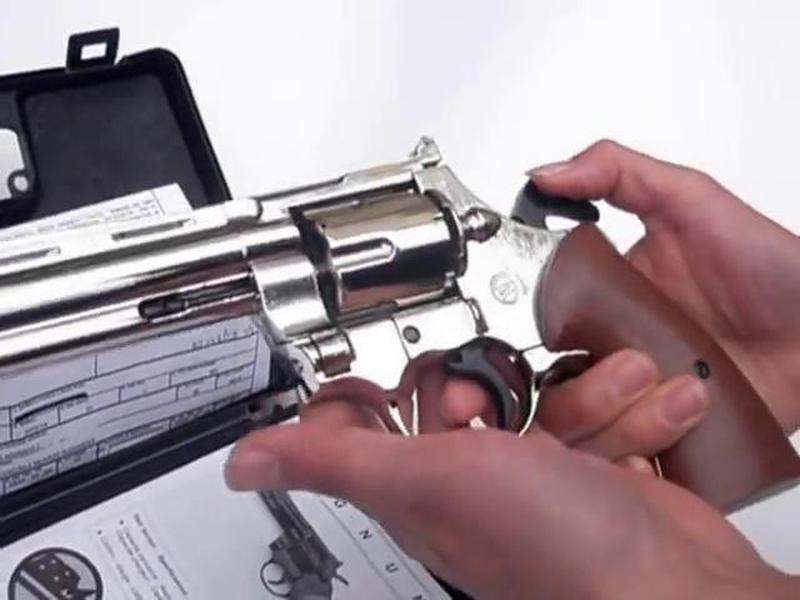Revolver: (17, 156, 794, 512)
